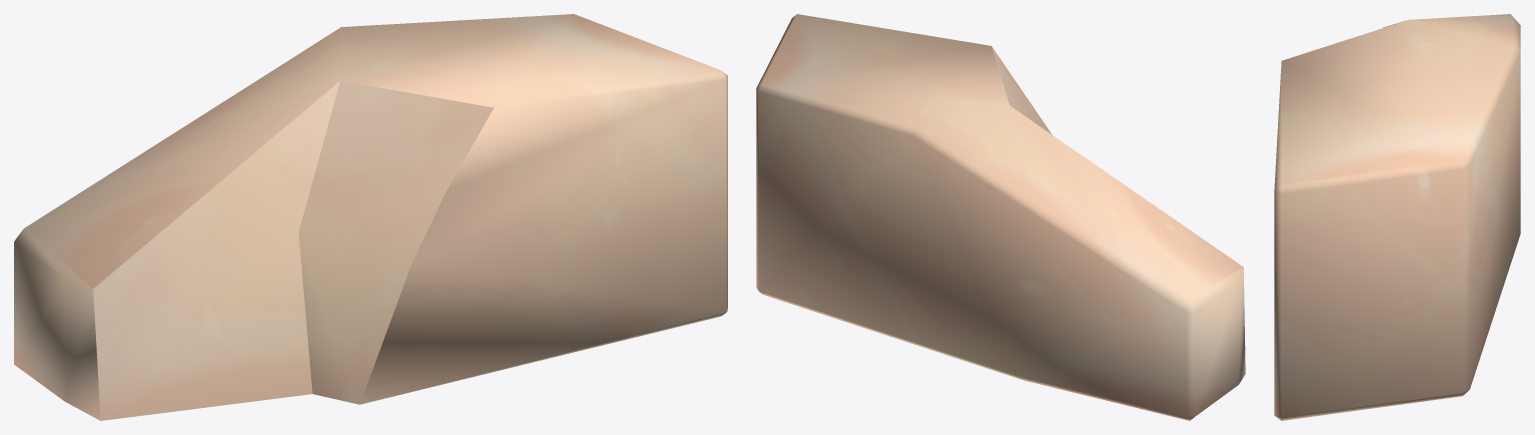
Rendered from Block13.fbx.
3 renders of one model, left to right at view 1: azimuth 30°, elevation 25°; view 2: azimuth 150°, elevation 25°; view 3: azimuth 270°, elevation 25°, orthographic. The views are drawn at different scales.
Parts seen in each view (by area): view 1: Block13; view 2: Block13; view 3: Block13.
Boxes of the visible parts, left/top/right/bottom form: Block13: left=14, top=14, right=727, bottom=420; Block13: left=756, top=14, right=1245, bottom=420; Block13: left=1274, top=14, right=1520, bottom=420.
Size of the model in its own units: 1.74 by 0.7412 by 0.6519.
